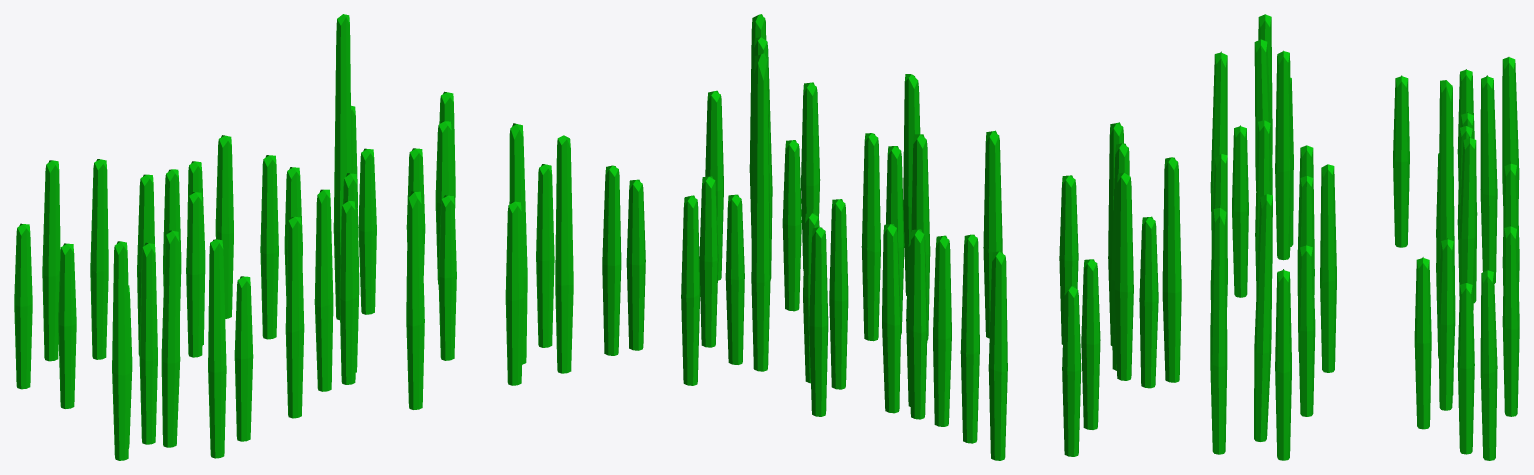
File: krass01.fbx
3 views of the same model, side by side, from view 1: azimuth 30°, elevation 25°; view 2: azimuth 150°, elevation 25°; view 3: azimuth 270°, elevation 25° (orthographic). The views are drawn at different scales.
Visible parts, largest first — view 1: krass01; view 2: krass01; view 3: krass01.
Boxes of the visible parts, <box> form: krass01: <box>14,14,573,460</box>; krass01: <box>602,14,1181,460</box>; krass01: <box>1210,14,1519,460</box>.
Size of the model in its own units: 745 by 481 by 428.
